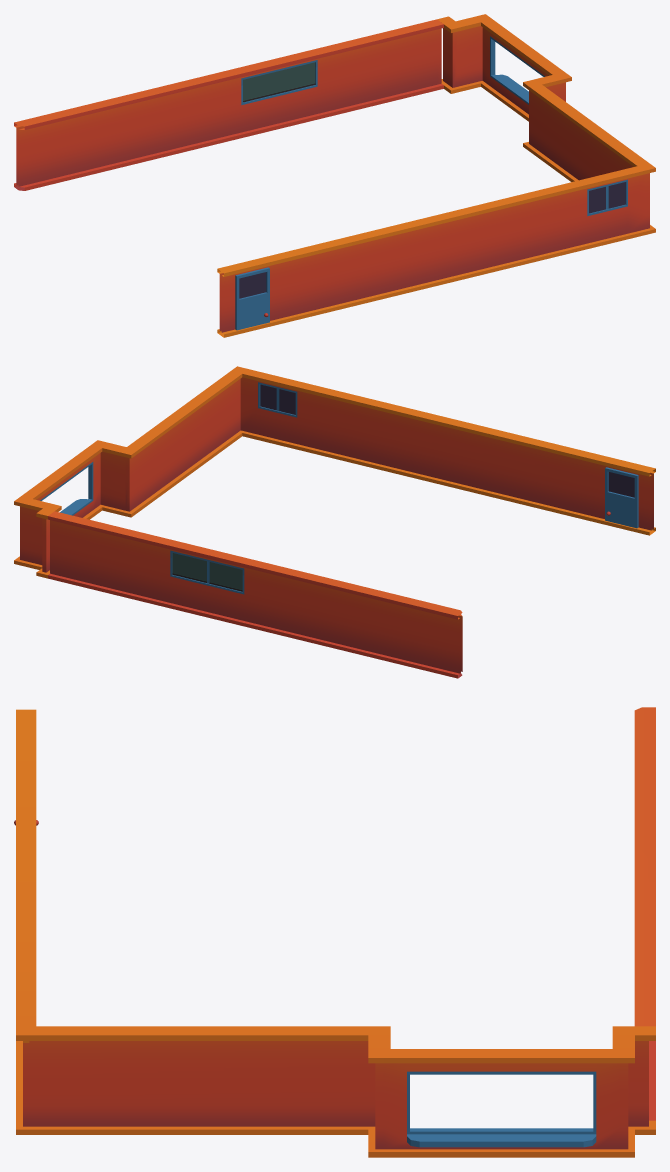
The model's file is Wall.fbx.
The picture shows the model from 3 angles, top to bottom: view 1: azimuth 30°, elevation 25°; view 2: azimuth 150°, elevation 25°; view 3: azimuth 270°, elevation 25°; orthographic projection. The views are drawn at different scales.
Visible parts, largest first — view 1: polySurface5, polySurface2; view 2: polySurface5, polySurface2; view 3: polySurface5, polySurface2.
Part boxes in pixels (<box>): polySurface5: <box>217,14,655,337</box>; polySurface2: <box>14,19,443,190</box>; polySurface5: <box>14,366,655,578</box>; polySurface2: <box>48,511,462,678</box>; polySurface5: <box>14,709,655,1157</box>; polySurface2: <box>634,707,655,1120</box>.
Size of the model in its own units: 6484 by 850 by 4960.
1 material, 1 textured.
